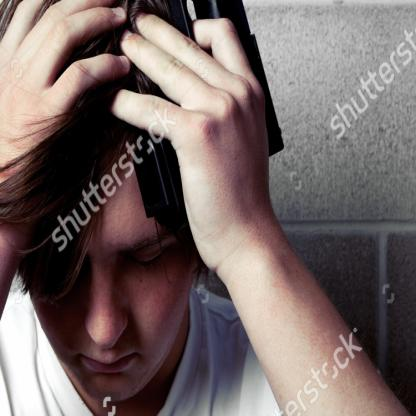gun: (134, 0, 274, 235)
